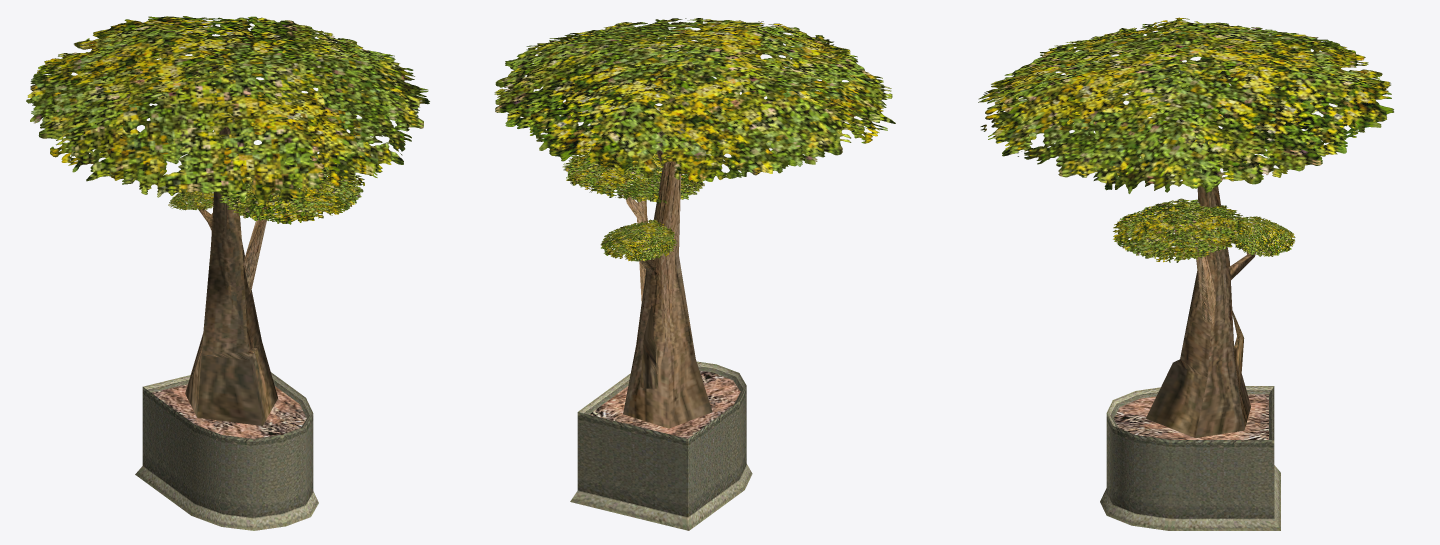
Rendered from frn_all_tree_potted_s1_l1.fbx.
3 views of the same model, side by side, from view 1: azimuth 30°, elevation 25°; view 2: azimuth 150°, elevation 25°; view 3: azimuth 270°, elevation 25° (orthographic).
Parts seen in each view (by area): view 1: mesh_node; view 2: mesh_node; view 3: mesh_node.
Part boxes in pixels (<box>): mesh_node: <box>26,16,429,530</box>; mesh_node: <box>494,18,895,530</box>; mesh_node: <box>978,17,1393,530</box>.
Size of the model in its own units: 2.36 by 2.4 by 2.49.
